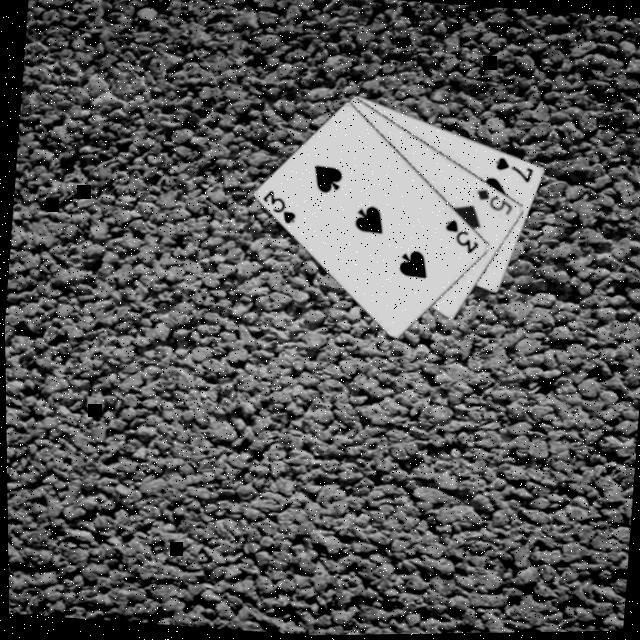3S: (255, 188, 298, 230), (438, 218, 480, 259)
5D: (469, 188, 513, 222)
7S: (488, 156, 534, 189)
